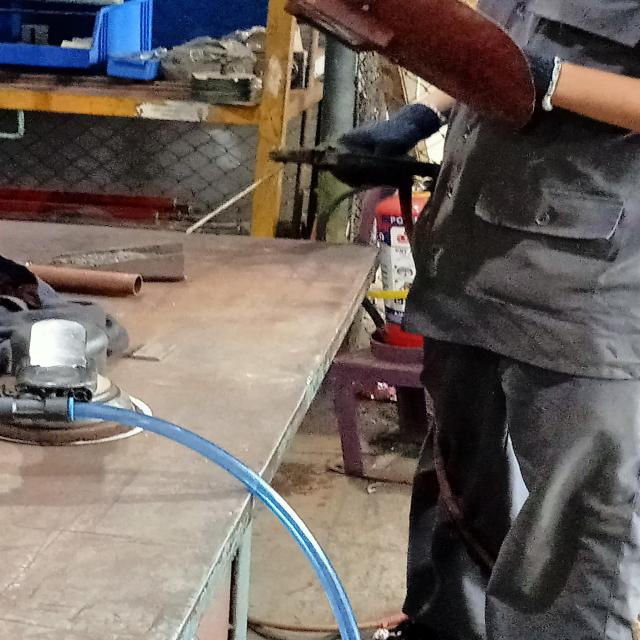Gloves-Detection: (345, 111, 439, 159)
